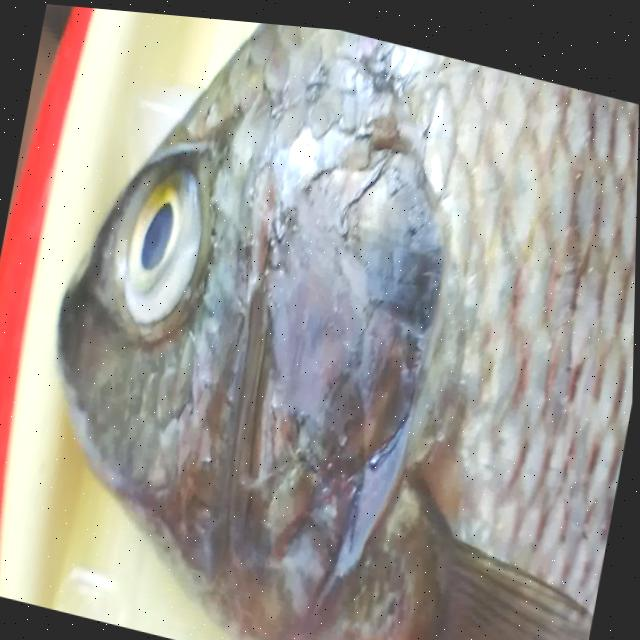Fresh: (262, 23, 640, 640), (65, 122, 248, 402)
